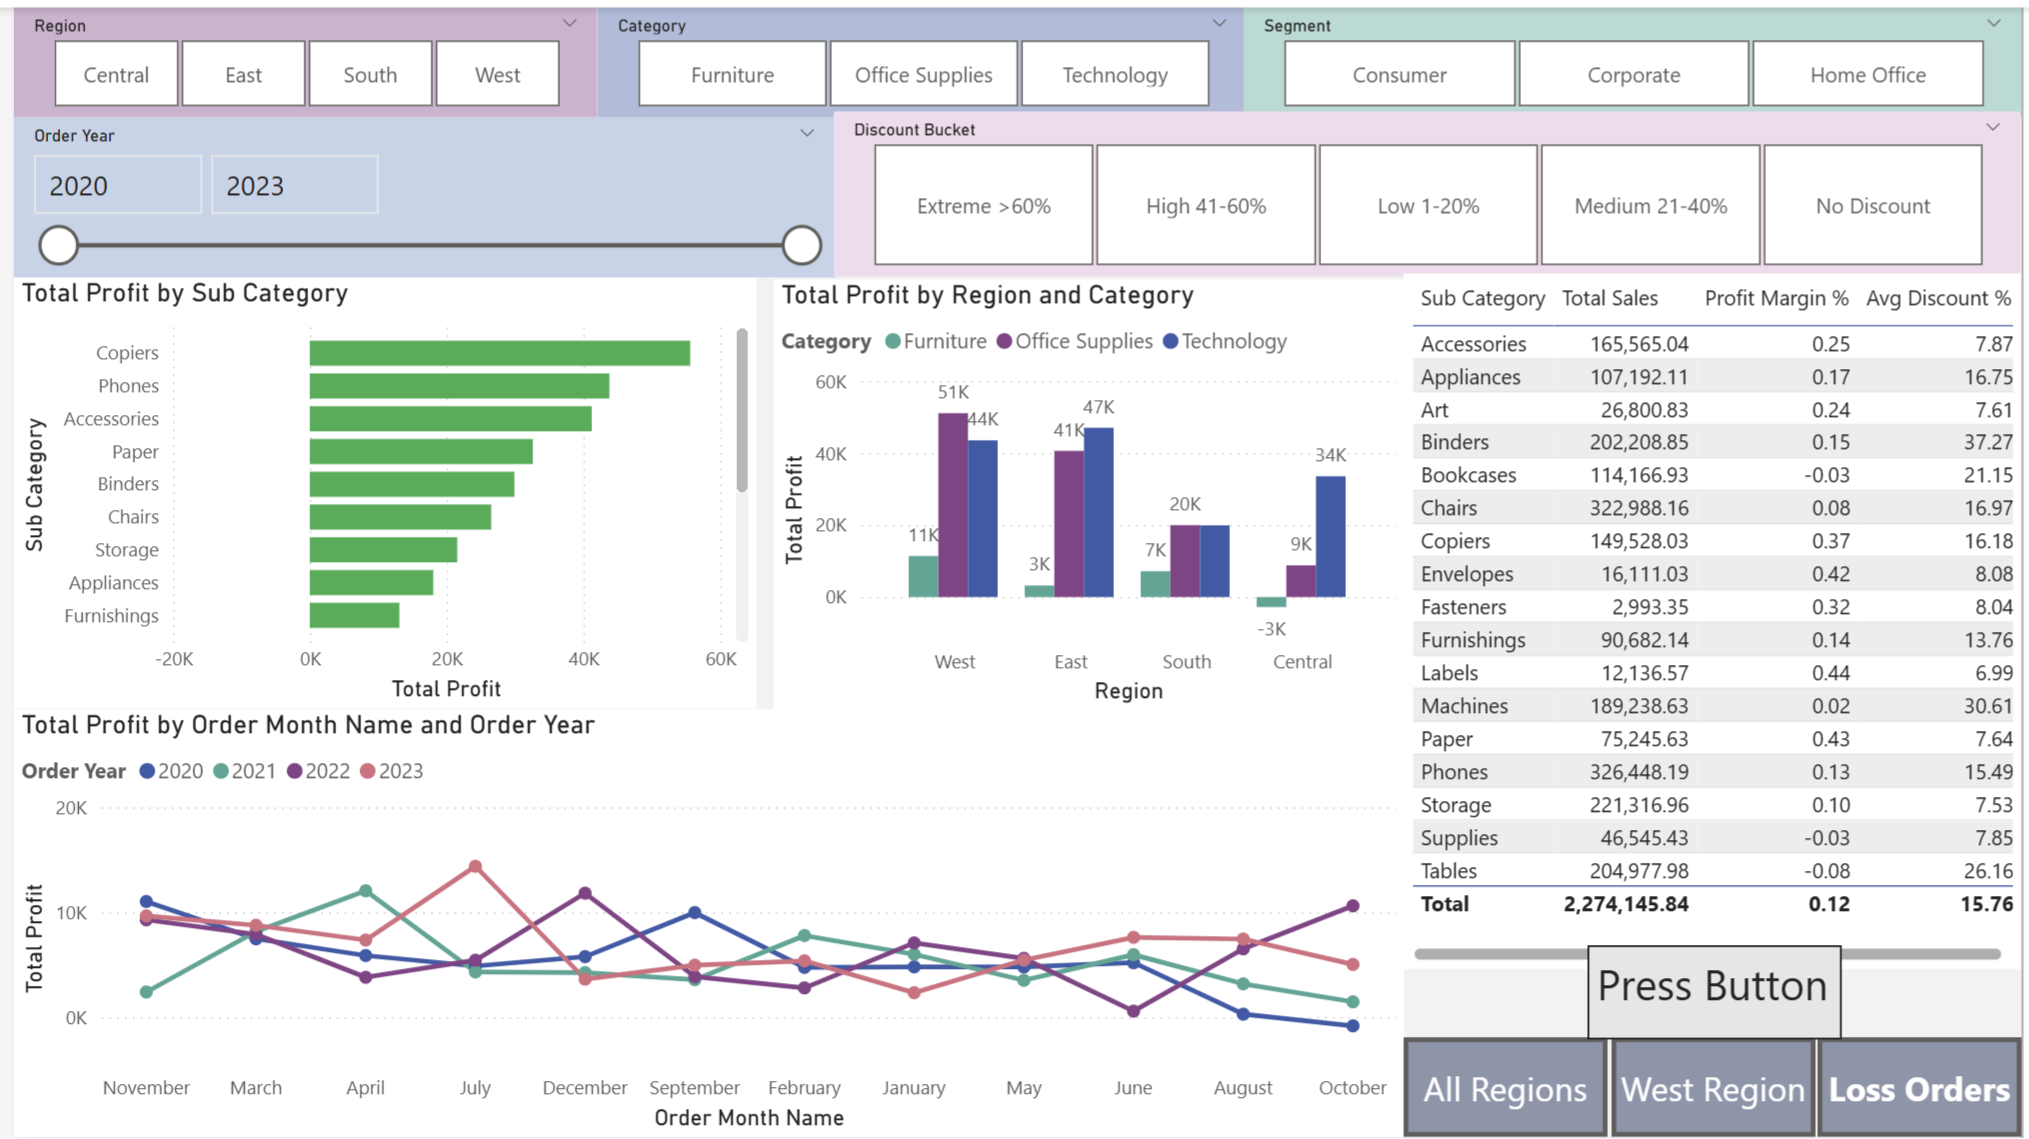

Layout of this report page (visuals, bound fields, positions):
{"tool":"powerbi","page":{"name":"Profit Analysis ","canvas":[1280,720],"ordinal":3},"visuals":[{"type":"slicer","fields":{"Values":["SampleSuperstore.Region"]},"box":[0,0,372,70],"z":0},{"type":"slicer","fields":{"Values":["SampleSuperstore.Category"]},"box":[372,0,414,70],"z":1000},{"type":"slicer","fields":{"Values":["SampleSuperstore.Segment"]},"box":[784,0,496,70],"z":2000},{"type":"slicer","fields":{"Values":["SampleSuperstore.Order Year"]},"box":[0,70,523.3,101.7],"z":3000},{"type":"slicer","fields":{"Values":["SampleSuperstore.Discount Bucket"]},"box":[523.3,66.7,756.7,105],"z":4000},{"type":"clusteredBarChart","fields":{"Category":["SampleSuperstore.Sub Category"],"Y":["SampleSuperstore.Total Profit"]},"box":[0,171.7,473.3,275],"z":5000},{"type":"clusteredColumnChart","fields":{"Category":["SampleSuperstore.Region"],"Y":["SampleSuperstore.Total Profit"],"Series":["SampleSuperstore.Category"]},"box":[485,173.3,401.7,275],"z":6000},{"type":"lineChart","fields":{"Category":["SampleSuperstore.Order Month Name"],"Y":["SampleSuperstore.Total Profit"],"Series":["SampleSuperstore.Order Year"]},"box":[0,447.2,886.7,273],"z":7000},{"type":"tableEx","fields":{"Values":["SampleSuperstore.Sub Category","SampleSuperstore.Total Sales","SampleSuperstore.Profit Margin %","SampleSuperstore.Avg Discount %"]},"box":[886.7,170,393.3,443.3],"z":8000},{"type":"actionButton","box":[886.7,656.7,130,63.3],"z":9000},{"type":"actionButton","box":[1018.3,656.7,130,63.3],"z":10000},{"type":"actionButton","box":[1150,656.7,130,63.3],"z":11000},{"type":"textbox","box":[1004,598.4,161.9,60.1],"z":12000}]}

Visuals, with their boxes in screenshot pixels (x1, y1, x2, y2), scaled from the page's 1280x720 canvas onto the 2029x1139 screenshot:
slicer - SampleSuperstore.Region: x1=0 y1=0 x2=590 y2=111
slicer - SampleSuperstore.Category: x1=590 y1=0 x2=1246 y2=111
slicer - SampleSuperstore.Segment: x1=1243 y1=0 x2=2028 y2=111
slicer - SampleSuperstore.Order Year: x1=0 y1=111 x2=830 y2=272
slicer - SampleSuperstore.Discount Bucket: x1=830 y1=106 x2=2028 y2=272
clusteredBarChart - SampleSuperstore.Sub Category x SampleSuperstore.Total Profit: x1=0 y1=272 x2=750 y2=707
clusteredColumnChart - SampleSuperstore.Region x SampleSuperstore.Total Profit: x1=769 y1=274 x2=1406 y2=709
lineChart - SampleSuperstore.Order Month Name x SampleSuperstore.Total Profit: x1=0 y1=707 x2=1406 y2=1138
tableEx - SampleSuperstore.Sub Category x SampleSuperstore.Total Sales: x1=1406 y1=269 x2=2028 y2=970
actionButton: x1=1406 y1=1039 x2=1612 y2=1138
actionButton: x1=1614 y1=1039 x2=1820 y2=1138
actionButton: x1=1823 y1=1039 x2=2028 y2=1138
textbox: x1=1591 y1=947 x2=1848 y2=1042
